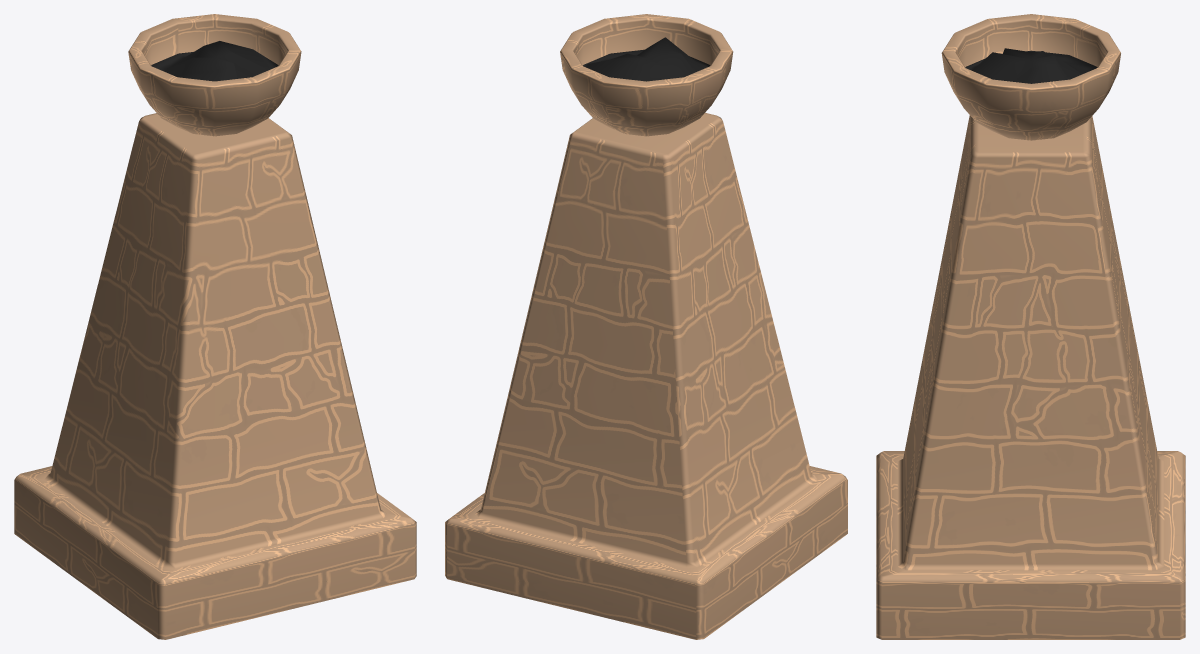
The model's file is FirePillar_FBX.fbx.
The picture shows the model from 3 angles, left to right: view 1: azimuth 30°, elevation 25°; view 2: azimuth 150°, elevation 25°; view 3: azimuth 270°, elevation 25°; orthographic projection. The views are drawn at different scales.
Visible parts, largest first — view 1: FirePillar; view 2: FirePillar; view 3: FirePillar.
Part boxes in pixels (x1,y1,x2,y2): FirePillar: (14,14,416,639); FirePillar: (445,14,847,639); FirePillar: (876,14,1185,639).
Bounding box in the file's own units: 0.708 × 1.32 × 0.708.
